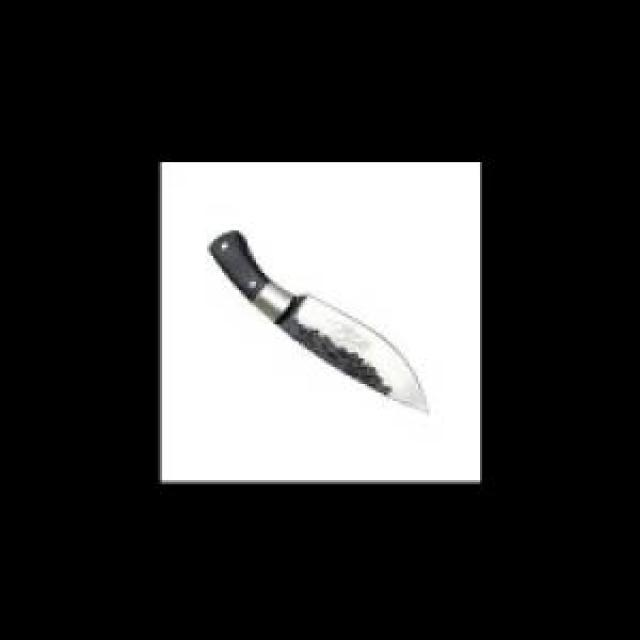knife: (205, 226, 436, 419)
